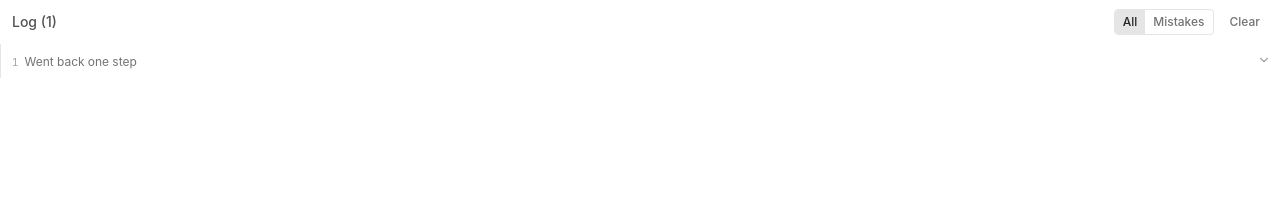
Scenario: LogList detail lines › draws one bar per candidate, normalized on the best entry
This screenshot has width=1280, height=201.
Click the button named "Show details" at (1264, 60), box left=1252, top=48, right=1276, bottom=72
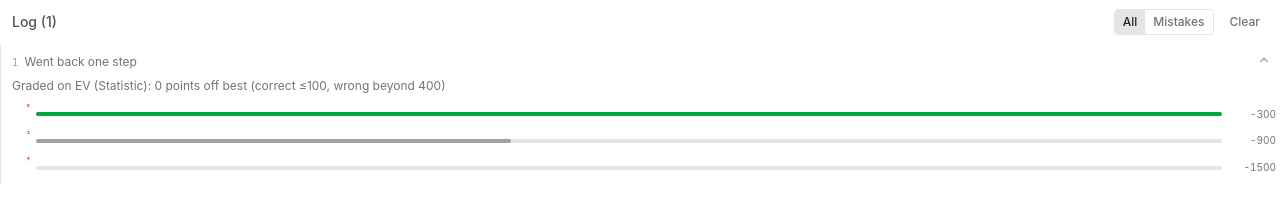
Expected: the text "Statistic" is shown, left=12, top=78, right=446, bottom=93
